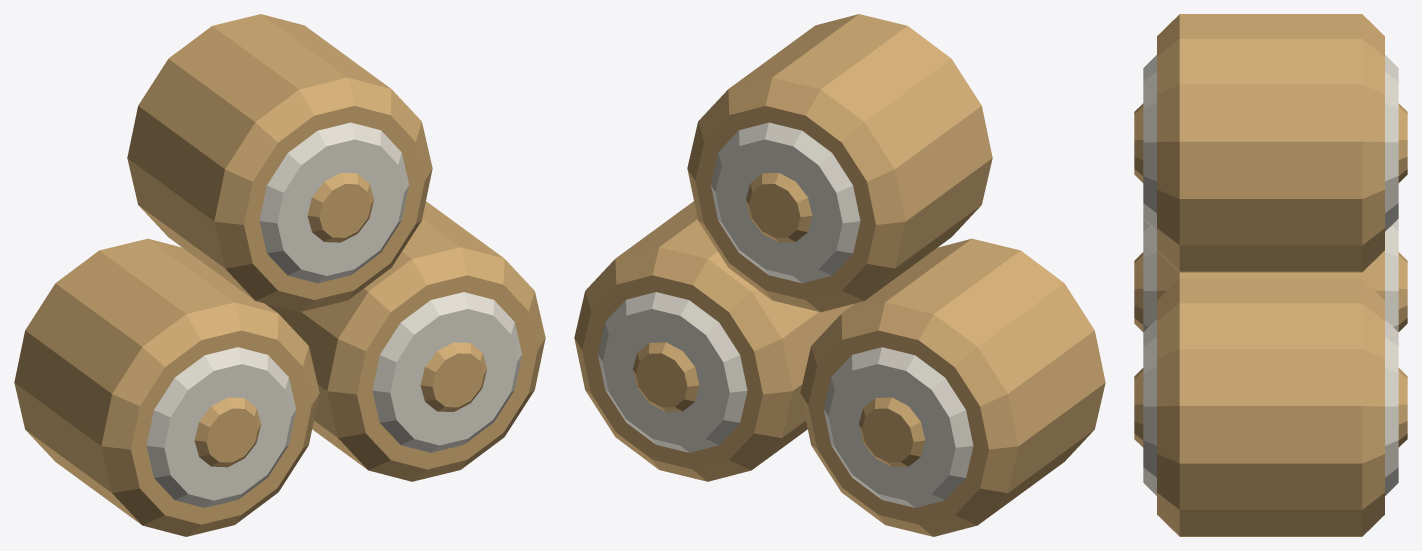
The model's file is game-ui-icon-library-wood-log-b66b906c.glb.
3 views of the same model, side by side, from view 1: azimuth 30°, elevation 25°; view 2: azimuth 150°, elevation 25°; view 3: azimuth 270°, elevation 25° (orthographic). The views are drawn at different scales.
Parts seen in each view (by area): view 1: wood-log; view 2: wood-log; view 3: wood-log.
Part boxes in pixels (left/top/right/bottom): wood-log: left=14, top=14, right=545, bottom=536; wood-log: left=574, top=14, right=1105, bottom=536; wood-log: left=1134, top=14, right=1407, bottom=536.
Size of the model in its own units: 0.98 by 0.8849 by 0.4983.
